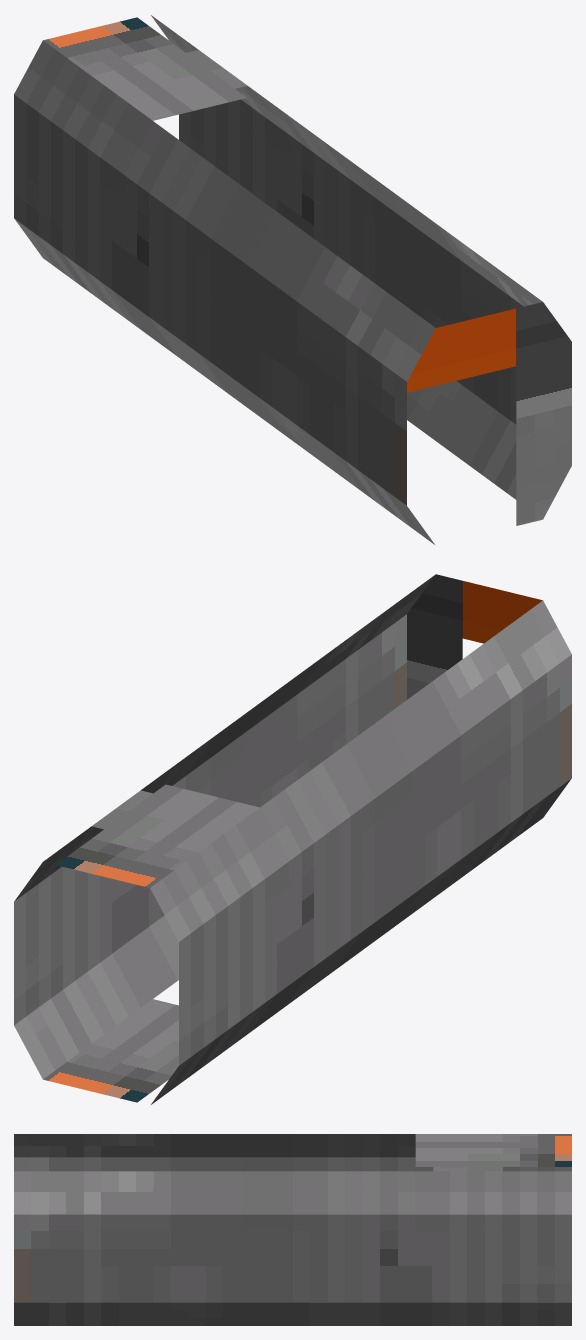
The model's file is LOD0-UVFlip.obj.
3 views of the same model, one above another, from view 1: azimuth 30°, elevation 25°; view 2: azimuth 150°, elevation 25°; view 3: azimuth 270°, elevation 25° (orthographic). The views are drawn at different scales.
Visible parts, largest first — view 1: TurretUV; view 2: TurretUV; view 3: TurretUV.
Part boxes in pixels (x1=…): TurretUV: x1=14, y1=15, x2=571, y2=544; TurretUV: x1=14, y1=574, x2=571, y2=1104; TurretUV: x1=14, y1=1134, x2=571, y2=1325.
Bounding box in the file's own units: 0.8777 × 1.11 × 3.62.
